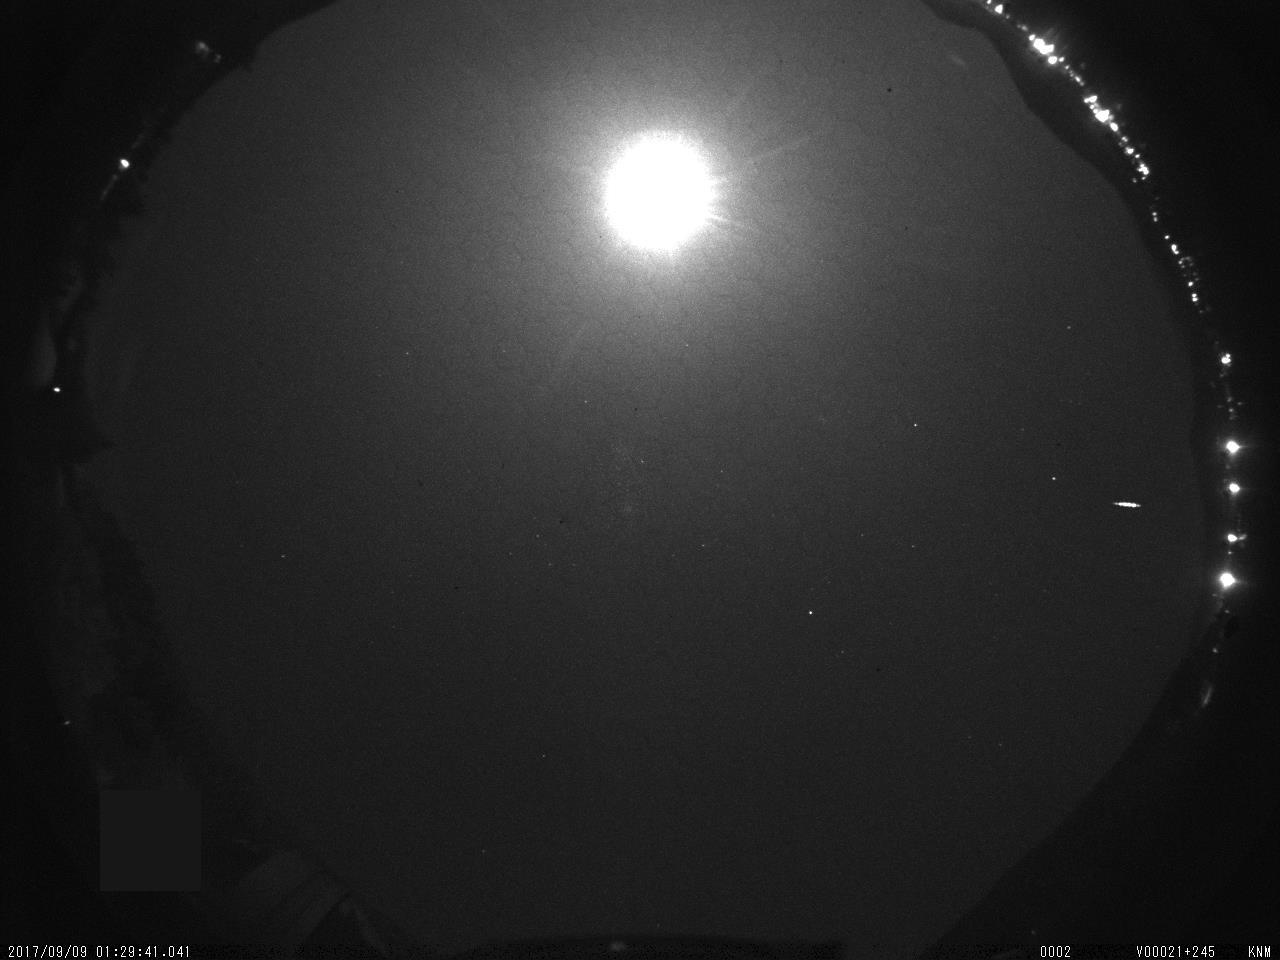meteor: (1111, 495, 1150, 515)
